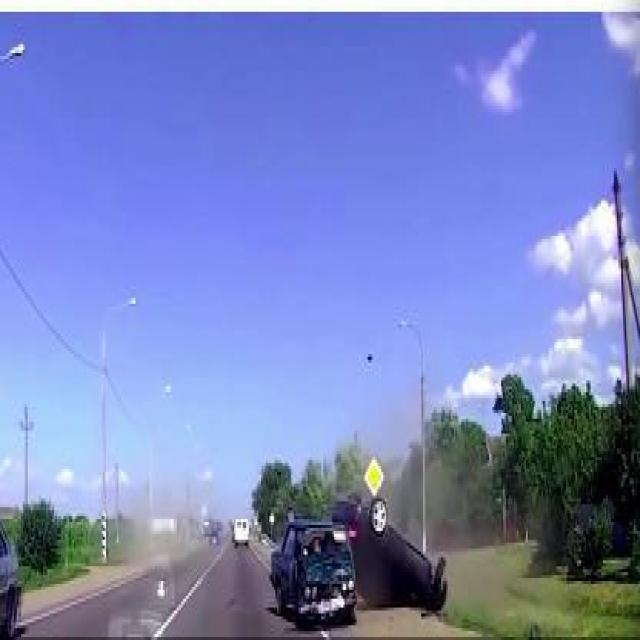accident: (269, 487, 448, 625)
